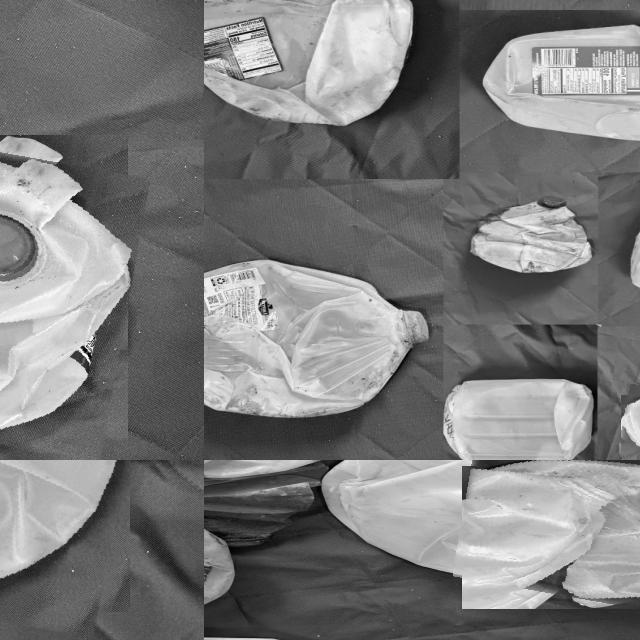milk-jug: (0, 115, 138, 460), (327, 460, 613, 588), (204, 259, 424, 418), (457, 460, 640, 625), (204, 0, 413, 125), (0, 460, 144, 624), (484, 25, 640, 145), (441, 375, 593, 460), (466, 194, 598, 274)
